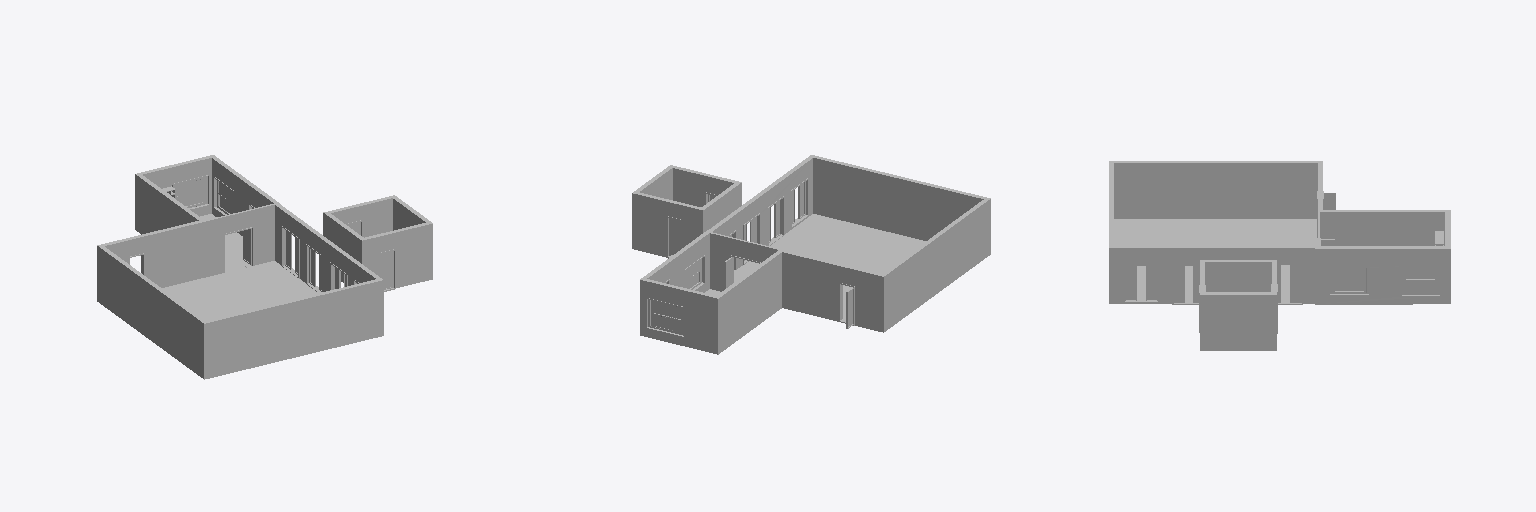
File: office.obj
3 renders of one model, left to right at view 1: azimuth 30°, elevation 25°; view 2: azimuth 150°, elevation 25°; view 3: azimuth 270°, elevation 25°, orthographic.
Parts seen in each view (by area): view 1: ExternalWalls:4b503e81-a96f-441f-9cc5-562b81aae82e, InnerSide:1aeac53d-ce74-4cfa-a001-2cfa0aca5029, WholeFloor:4b503e81-a96f-441f-9cc5-562b81aae82e, FloorFillerTop:4b503e81-a96f-441f-9cc5-562b81aae82e, InnerSide:95e166b9-2621-414a-b9f4-d95c[number redacted]c, InnerSide:d3bebab2-233a-403e-8ba0-6fcc4ccd0913, InnerSide:6b83881d-2531-4a47-a78c-7cf[number redacted]f, InnerSide:4da9fbc2-6711-4cac-9b3a-1ee[number redacted]c5, windowhung-master:c7ea28ad-f821-47be-a0ef-a86815e42a74, InnerSide:ce1581a5-b3fb-4151-8651-9b681960a761; view 2: ExternalWalls:4b503e81-a96f-441f-9cc5-562b81aae82e, InnerSide:82179f6d-7153-4f40-99cb-[number redacted]f9e, WholeFloor:4b503e81-a96f-441f-9cc5-562b81aae82e, FloorFillerTop:4b503e81-a96f-441f-9cc5-562b81aae82e, InnerSide:95e166b9-2621-414a-b9f4-d95c[number redacted]c, InnerSide:ef806199-e9c3-4520-944c-[number redacted]a9cbe, InnerSide:bea3d623-1f0b-47f0-8786-a5a51064a60a, InnerSide:6b83881d-2531-4a47-a78c-7cf[number redacted]f, windowhung-master:c7ea28ad-f821-47be-a0ef-a86815e42a74, InnerSide:ce1581a5-b3fb-4151-8651-9b681960a761; view 3: ExternalWalls:4b503e81-a96f-441f-9cc5-562b81aae82e, InnerSide:f53dc5a3-33ca-46ae-89d0-101dbdadf248, WholeFloor:4b503e81-a96f-441f-9cc5-562b81aae82e, InnerSide:c0b4799c-9b2a-45af-b5f0-4cf78a8c39d8, FloorFillerTop:4b503e81-a96f-441f-9cc5-562b81aae82e, InnerSide:d78f93a1-965e-4319-862f-5c1e6fa8c0cc, windowhung-master:aedefbd9-5353-42bb-83a3-138f9e1ce6a9, windowhung-master:b1e60c0b-0473-4fab-8ae3-1467d10cfd46, doorslidingglass-master:3fb4b34e-f975-49fc-ba6e-118eb73f5d18, doorslidingglass-master:2b2bf197-7439-456b-8f7d-f7c576a4f666, doorslidingglass-master:39d5ac8f-df38-465d-b733-7c[number redacted]d.
Part boxes in pixels (left/top/right/bottom): ExternalWalls:4b503e81-a96f-441f-9cc5-562b81aae82e: left=97, top=174, right=432, bottom=379; InnerSide:1aeac53d-ce74-4cfa-a001-2cfa0aca5029: left=105, top=205, right=274, bottom=287; WholeFloor:4b503e81-a96f-441f-9cc5-562b81aae82e: left=162, top=214, right=317, bottom=320; FloorFillerTop:4b503e81-a96f-441f-9cc5-562b81aae82e: left=97, top=155, right=432, bottom=323; InnerSide:95e166b9-2621-414a-b9f4-d95c[number redacted]c: left=275, top=205, right=375, bottom=291; InnerSide:d3bebab2-233a-403e-8ba0-6fcc4ccd0913: left=331, top=198, right=392, bottom=237; InnerSide:6b83881d-2531-4a47-a78c-7cf[number redacted]f: left=212, top=158, right=273, bottom=235; InnerSide:4da9fbc2-6711-4cac-9b3a-1ee[number redacted]c5: left=143, top=158, right=211, bottom=216; windowhung-master:c7ea28ad-f821-47be-a0ef-a86815e42a74: left=172, top=177, right=207, bottom=207; InnerSide:ce1581a5-b3fb-4151-8651-9b681960a761: left=393, top=199, right=425, bottom=230; ExternalWalls:4b503e81-a96f-441f-9cc5-562b81aae82e: left=632, top=183, right=990, bottom=354; InnerSide:82179f6d-7153-4f40-99cb-[number redacted]f9e: left=813, top=158, right=983, bottom=240; WholeFloor:4b503e81-a96f-441f-9cc5-562b81aae82e: left=705, top=214, right=925, bottom=318; FloorFillerTop:4b503e81-a96f-441f-9cc5-562b81aae82e: left=633, top=155, right=990, bottom=298; InnerSide:95e166b9-2621-414a-b9f4-d95c[number redacted]c: left=713, top=158, right=812, bottom=268; InnerSide:ef806199-e9c3-4520-944c-[number redacted]a9cbe: left=710, top=233, right=777, bottom=291; InnerSide:bea3d623-1f0b-47f0-8786-a5a51064a60a: left=673, top=168, right=733, bottom=206; InnerSide:6b83881d-2531-4a47-a78c-7cf[number redacted]f: left=647, top=233, right=709, bottom=292; windowhung-master:c7ea28ad-f821-47be-a0ef-a86815e42a74: left=648, top=300, right=683, bottom=335; InnerSide:ce1581a5-b3fb-4151-8651-9b681960a761: left=640, top=168, right=672, bottom=199; ExternalWalls:4b503e81-a96f-441f-9cc5-562b81aae82e: left=1109, top=248, right=1450, bottom=350; InnerSide:f53dc5a3-33ca-46ae-89d0-101dbdadf248: left=1114, top=163, right=1317, bottom=218; WholeFloor:4b503e81-a96f-441f-9cc5-562b81aae82e: left=1114, top=219, right=1316, bottom=300; InnerSide:c0b4799c-9b2a-45af-b5f0-4cf78a8c39d8: left=1320, top=212, right=1444, bottom=245; FloorFillerTop:4b503e81-a96f-441f-9cc5-562b81aae82e: left=1109, top=161, right=1450, bottom=294; InnerSide:d78f93a1-965e-4319-862f-5c1e6fa8c0cc: left=1205, top=262, right=1271, bottom=291; windowhung-master:aedefbd9-5353-42bb-83a3-138f9e1ce6a9: left=1402, top=267, right=1439, bottom=294; windowhung-master:b1e60c0b-0473-4fab-8ae3-1467d10cfd46: left=1330, top=268, right=1368, bottom=293; doorslidingglass-master:3fb4b34e-f975-49fc-ba6e-118eb73f5d18: left=1125, top=266, right=1157, bottom=300; doorslidingglass-master:2b2bf197-7439-456b-8f7d-f7c576a4f666: left=1174, top=266, right=1199, bottom=302; doorslidingglass-master:39d5ac8f-df38-465d-b733-7c[number redacted]d: left=1277, top=265, right=1301, bottom=302.
Size of the model in its own units: 151 by 29.73 by 163.